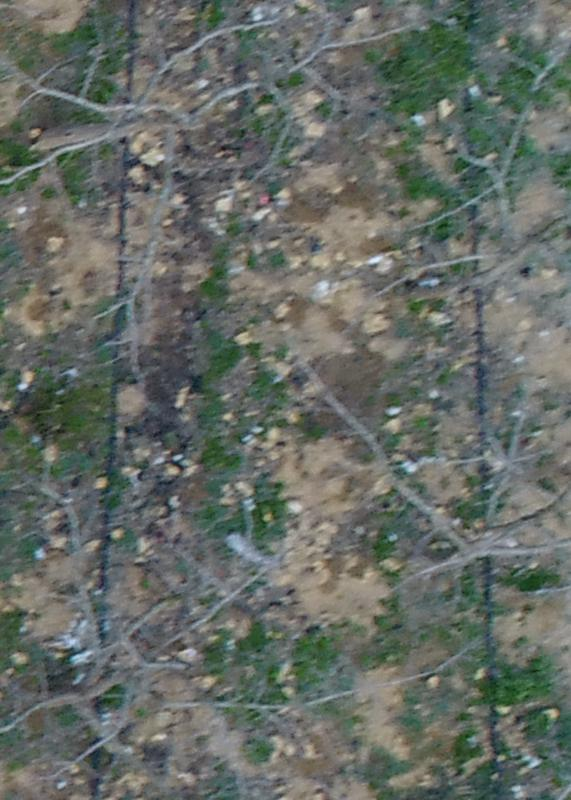apple: (10, 10, 431, 391), (10, 475, 484, 790)
